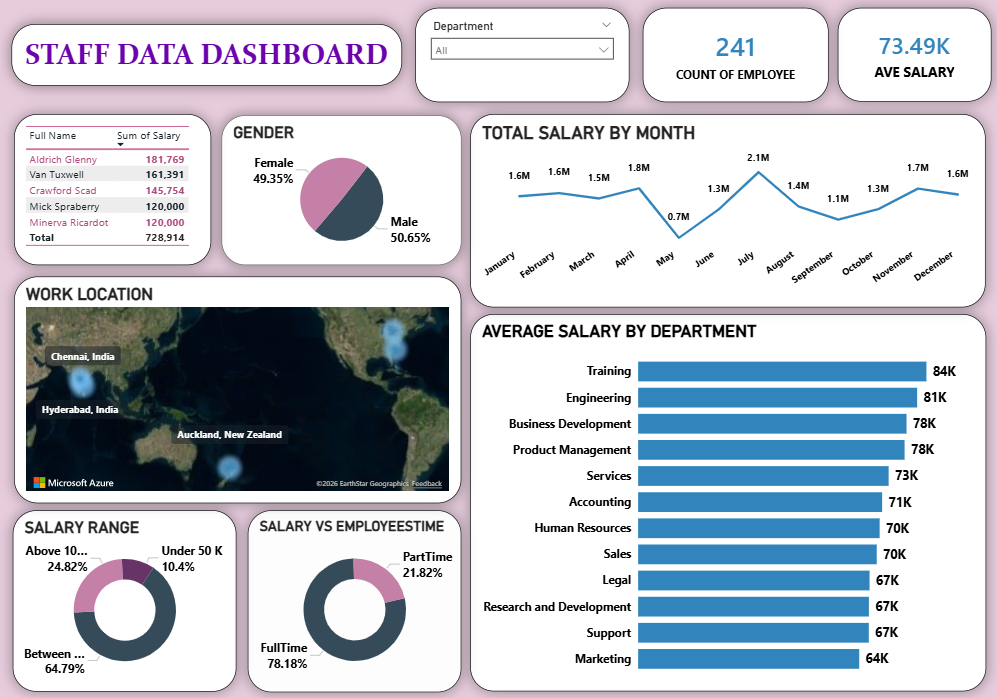

Layout of this report page (visuals, bound fields, positions):
{"tool":"powerbi","page":{"name":"Page 1","canvas":[1280,900],"ordinal":0},"visuals":[{"type":"clusteredBarChart","title":"AVERAGE SALARY BY DEPARTMENT","fields":{"Category":["Staff.Department"],"Y":["Avg(Staff.Salary)"]},"box":[604.8,406.5,654.8,479],"z":0},{"type":"donutChart","title":"SALARY VS EMPLOYEESTIME","fields":{"Y":["Sum(Staff.Salary)"],"Category":["Staff.EmployeesTime"]},"box":[321.4,655.7,271.4,231.4],"z":1000},{"type":"donutChart","title":"SALARY RANGE","fields":{"Category":["Staff.Salary Range"],"Y":["Sum(Staff.Salary)"]},"box":[24.3,655.7,284.3,230],"z":2000},{"type":"lineChart","title":"TOTAL SALARY BY MONTH","fields":{"Category":["Staff.Start Date.Variation.Date Hierarchy.Month"],"Y":["Sum(Staff.Salary)"]},"box":[604.3,152.9,654.3,245.7],"z":3000},{"type":"cardVisual","fields":{"Data":["Avg(Staff.Salary)"]},"box":[1071,17.7,195.2,119.4],"z":4000},{"type":"cardVisual","fields":{"Data":["CountNonNull(Staff.First Name)"]},"box":[824,18,236,120],"z":5000},{"type":"azureMap","title":"WORK LOCATION","fields":{"Category":["Staff.Work location"]},"box":[25,358.3,568.3,288.3],"z":6000},{"type":"pieChart","title":"GENDER","fields":{"Category":["Staff.Gender"],"Y":["Sum(Staff.Salary)"]},"box":[288.3,153.3,305,190],"z":7000},{"type":"pivotTable","fields":{"Rows":["Staff.Full Name"],"Values":["Sum(Staff.Salary)"]},"box":[25,151.7,250,191.7],"z":8000},{"type":"slicer","fields":{"Values":["Staff.Department"]},"box":[535,18,272,120],"z":9000},{"type":"textbox","box":[22.5,38.8,496.2,78.8],"z":10000}]}

Visuals, with their boxes in screenshot pixels (x1, y1, x2, y2), scaled from the page's 1280x900 canvas onto the 997x698 screenshot:
"AVERAGE SALARY BY DEPARTMENT" clusteredBarChart: 471/315/981/687
"SALARY VS EMPLOYEESTIME" donutChart: 250/509/462/688
"SALARY RANGE" donutChart: 19/509/240/687
"TOTAL SALARY BY MONTH" lineChart: 471/119/980/309
cardVisual - Avg(Staff.Salary): 834/14/986/106
cardVisual - CountNonNull(Staff.First Name): 642/14/826/107
"WORK LOCATION" azureMap: 19/278/462/501
"GENDER" pieChart: 225/119/462/266
pivotTable - Staff.Full Name x Sum(Staff.Salary): 19/118/214/266
slicer - Staff.Department: 417/14/629/107
textbox: 18/30/404/91
